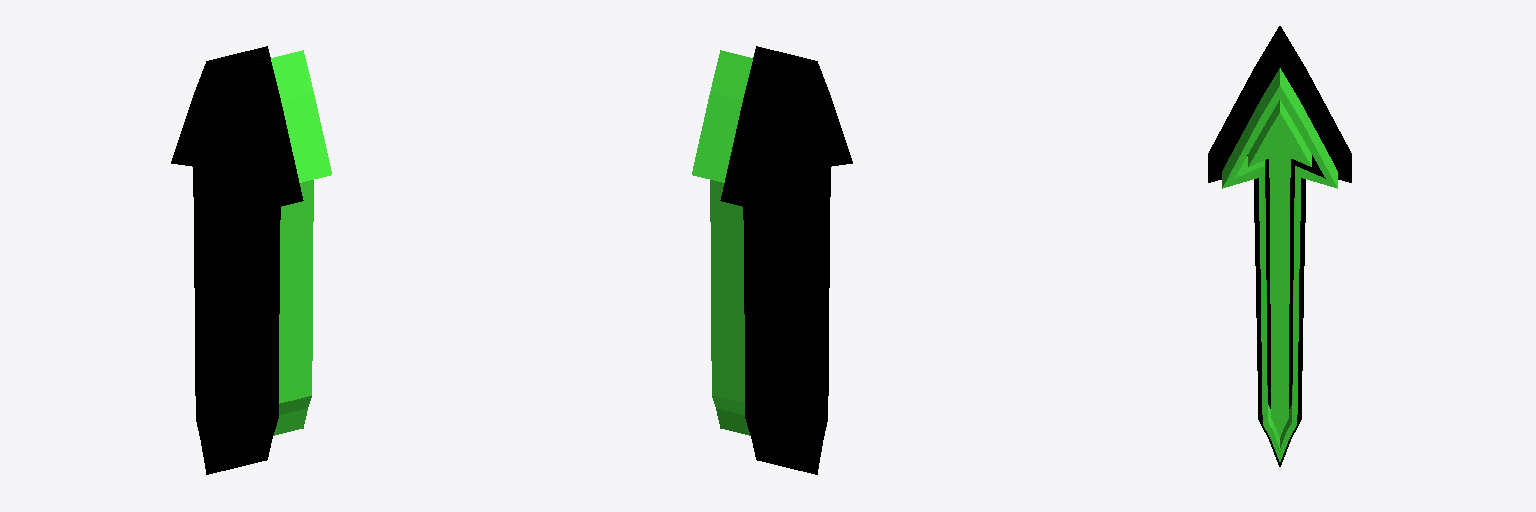
3 views of the same model, side by side, from view 1: azimuth 30°, elevation 25°; view 2: azimuth 150°, elevation 25°; view 3: azimuth 270°, elevation 25° (orthographic).
Parts seen in each view (by area): view 1: arrow.001; view 2: arrow.001; view 3: arrow.001.
Part boxes in pixels (x1,y1,x2,y2): arrow.001: (171,46,331,474); arrow.001: (692,46,852,474); arrow.001: (1208,26,1351,466).
Size of the model in its own units: 0.6037 by 2.41 by 0.7595.
1 materials, 1 textured.